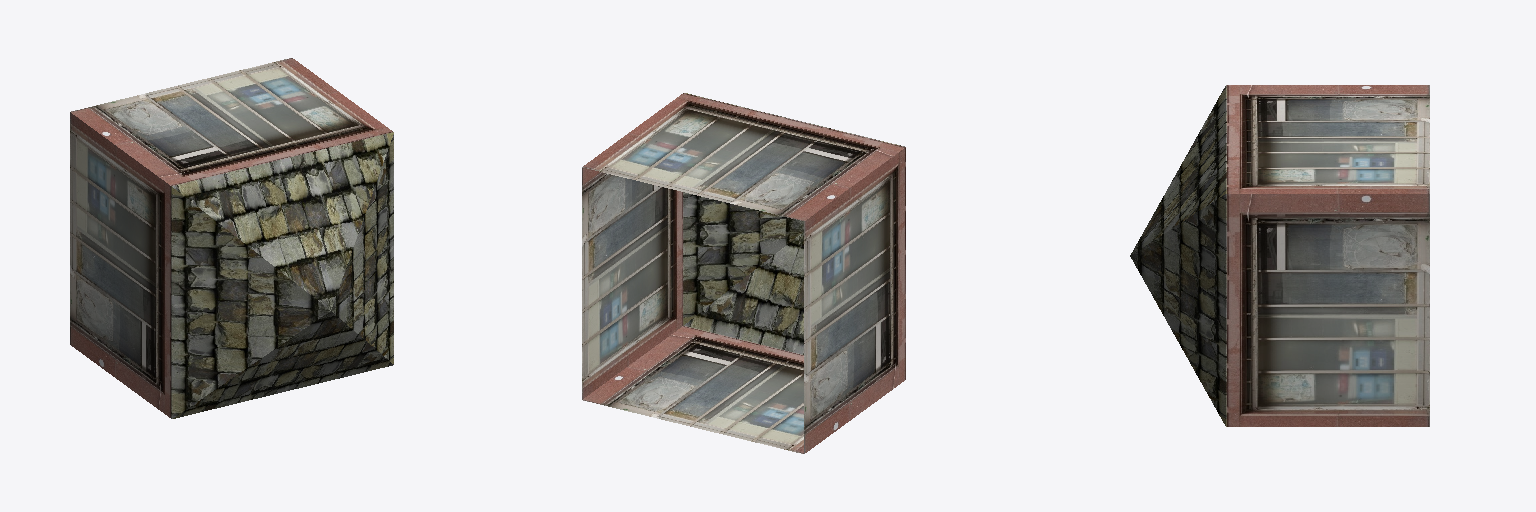
3 renders of one model, left to right at view 1: azimuth 30°, elevation 25°; view 2: azimuth 150°, elevation 25°; view 3: azimuth 270°, elevation 25°, orthographic.
Parts seen in each view (by area): view 1: Cube; view 2: Cube; view 3: Cube.
Boxes of the visible parts, box(x1,y1,x2,y2) form: Cube: box(70, 58, 393, 418); Cube: box(582, 93, 905, 453); Cube: box(1130, 85, 1429, 426).
Bounding box in the file's own units: 1.09 × 1.09 × 1.27.
1 materials, 1 textured.